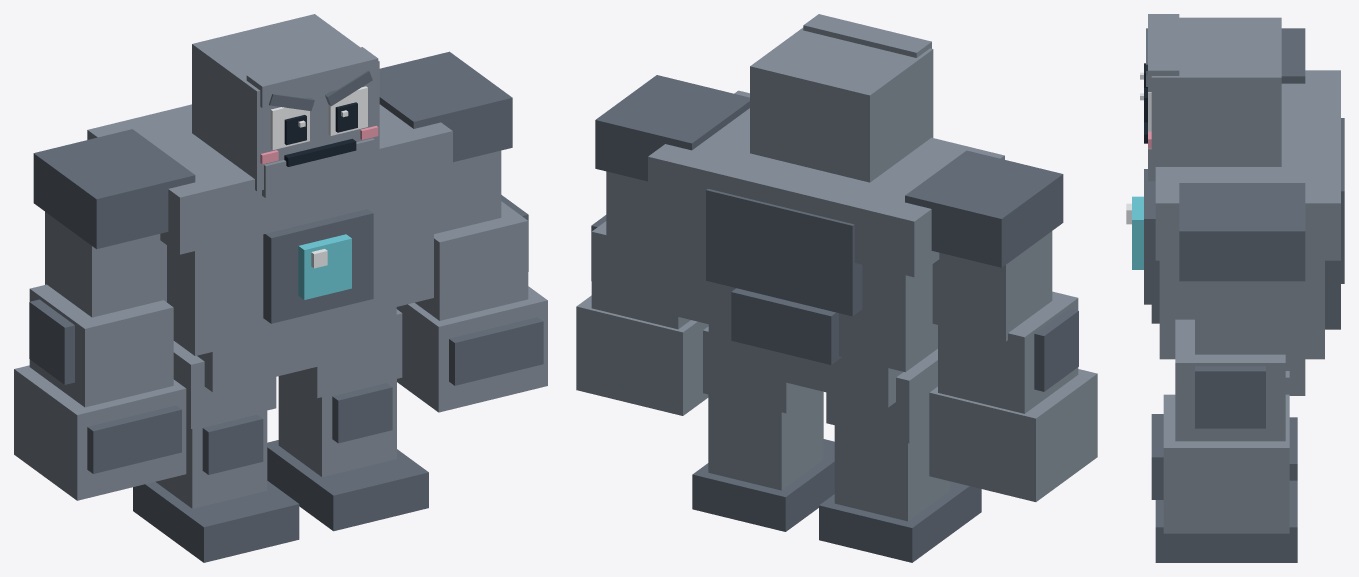
Rendered from StoneGolem_Static.glb.
3 views of the same model, side by side, from view 1: azimuth 30°, elevation 25°; view 2: azimuth 150°, elevation 25°; view 3: azimuth 270°, elevation 25° (orthographic). The views are drawn at different scales.
Parts seen in each view (by area): view 1: Chest, Torso, Head, Shoulder_L, Fist_L, Forearm_L, Shoulder_R, Fist_R, Forearm_R, UpperArm_L, Foot_L, Foot_R (+18 smaller); view 2: Head, Chest, Fist_L, BackPlateUp, Shoulder_L, Torso, Fist_R, Shoulder_R, Shin_R, UpperArm_L, Forearm_L, Shin_L (+10 smaller); view 3: Head, Chest, Fist_R, Shoulder_R, UpperArm_R, Forearm_R, Torso, Foot_R, ElbowPlate_R, BrowRidge, CorePlate, Shoulder_L (+6 smaller).
Boxes of the visible parts, x1,y1,x2,y2 form: Chest: (87,104,452,254); Torso: (167,193,433,355); Head: (192,14,379,191); Shoulder_L: (33,129,195,249); Fist_L: (14,365,186,500); Forearm_L: (29,284,173,407); Shoulder_R: (379,51,512,162); Fist_R: (396,286,547,412); Forearm_R: (415,201,528,320); UpperArm_L: (45,212,166,317); Foot_L: (133,481,299,562); Foot_R: (267,440,428,531); Head: (750,27,933,182); Chest: (648,90,1004,277); Fist_L: (929,369,1097,501); BackPlateUp: (706,189,862,316); Shoulder_L: (905,150,1063,267); Torso: (672,218,937,372); Fist_R: (576,295,708,415); Shoulder_R: (595,75,749,181); Shin_R: (708,390,823,490); UpperArm_L: (932,231,1052,341); Forearm_L: (938,291,1078,413); Shin_L: (834,425,950,521); Head: (1151,17,1281,177); Chest: (1155,70,1340,260); Fist_R: (1163,394,1289,533); Shoulder_R: (1179,183,1305,281); UpperArm_R: (1195,281,1289,361); Forearm_R: (1175,319,1285,441); Torso: (1159,260,1324,359); Foot_R: (1155,480,1297,562); ElbowPlate_R: (1195,366,1265,428); BrowRidge: (1148,14,1179,91); CorePlate: (1144,169,1159,304); Shoulder_L: (1281,28,1305,83).
Bounding box in the file's own units: 13.8 × 13.05 × 5.55.
